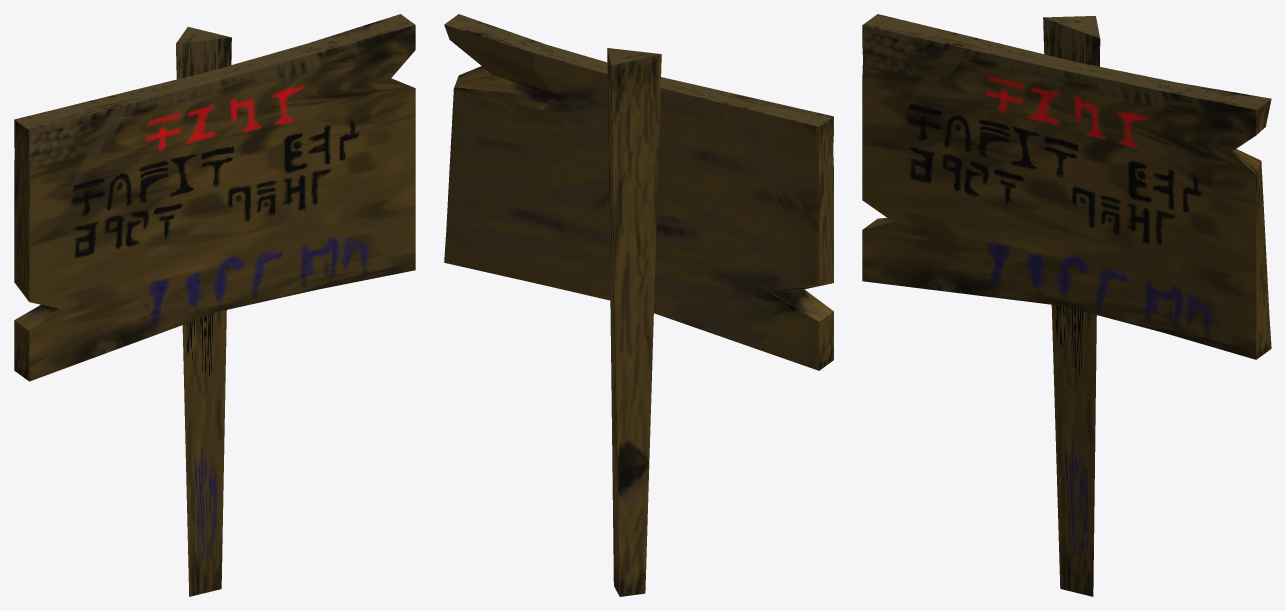
File: Note Board.fbx
The picture shows the model from 3 angles, left to right: view 1: azimuth 30°, elevation 25°; view 2: azimuth 150°, elevation 25°; view 3: azimuth 330°, elevation 25°; orthographic projection. The views are drawn at different scales.
Visible parts, largest first — view 1: Cube, Cube.001; view 2: Cube, Cube.001; view 3: Cube, Cube.001.
Boxes of the visible parts, x1=… form: Cube: x1=14, y1=14, x2=415, y2=381; Cube.001: x1=176, y1=27, x2=231, y2=596; Cube: x1=444, y1=14, x2=833, y2=370; Cube.001: x1=607, y1=48, x2=661, y2=596; Cube: x1=862, y1=14, x2=1271, y2=359; Cube.001: x1=1043, y1=16, x2=1100, y2=596.
Size of the model in its own units: 214 by 294 by 33.71.
